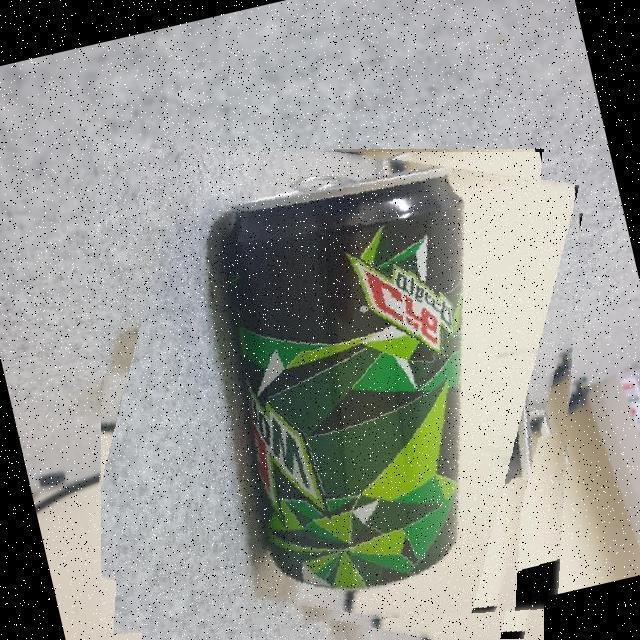recyclable: (101, 152, 586, 637)
